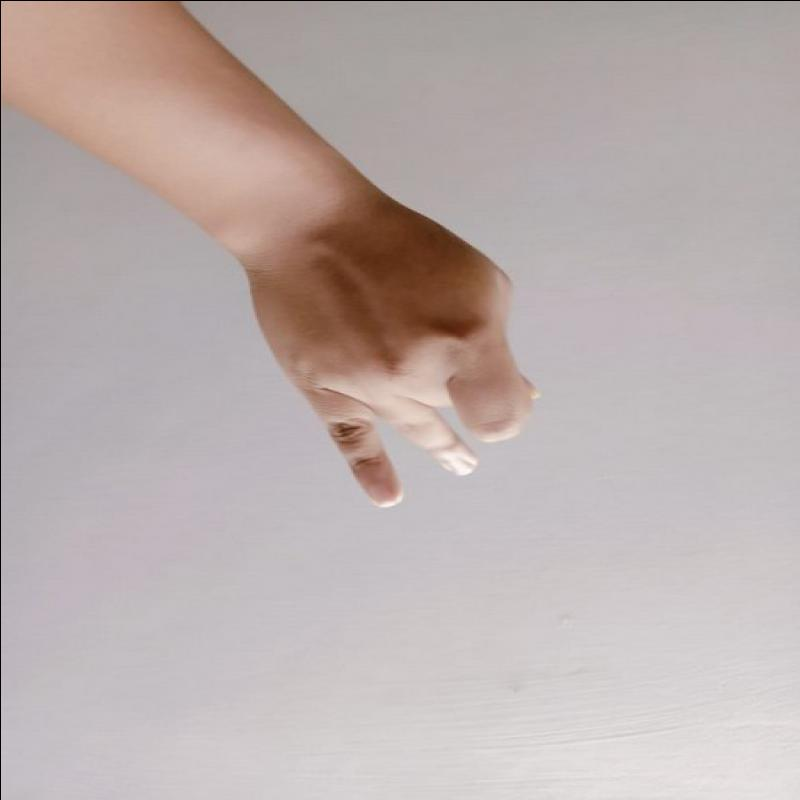Katakam: (244, 217, 558, 545)
